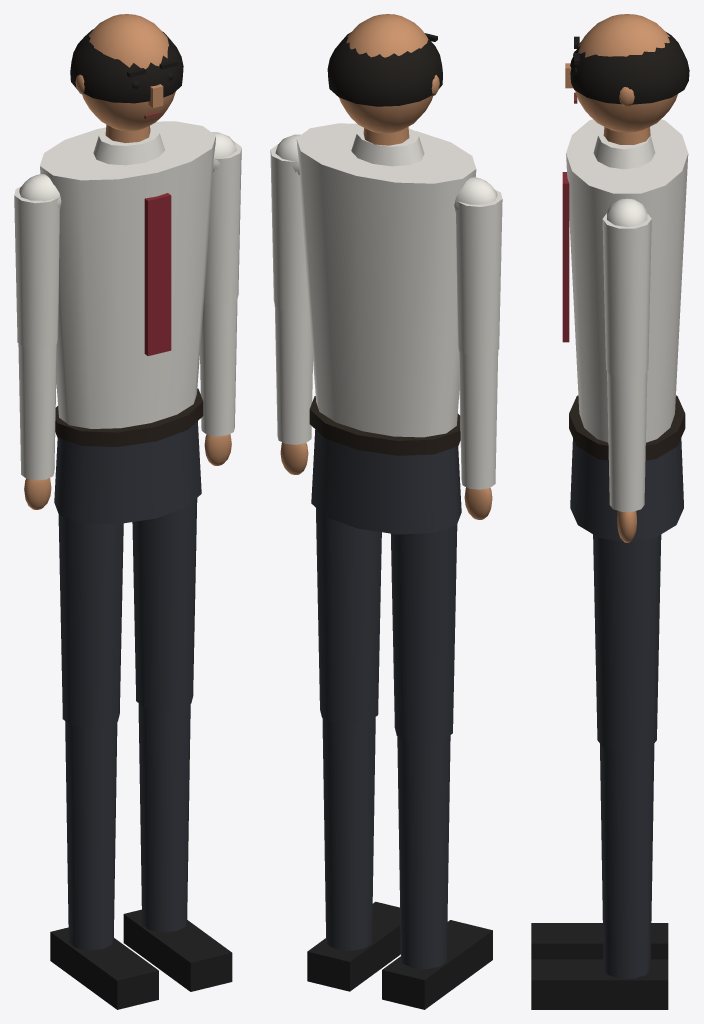
Rendered from person-1980s.glb.
3 renders of one model, left to right at view 1: azimuth 30°, elevation 25°; view 2: azimuth 150°, elevation 25°; view 3: azimuth 270°, elevation 25°, orthographic. The views are drawn at different scales.
Parts seen in each view (by area): view 1: spine, shinR, shinL, thighL, thighR, hips, neck, upperArmL, forearmL, forearmR, upperArmR, shoulderL; view 2: spine, shinL, shinR, thighL, thighR, hips, neck, upperArmL, forearmL, forearmR, upperArmR, shoulderL (+1 smaller); view 3: spine, shinR, thighR, neck, upperArmR, hips, forearmR, shinL, shoulderR.
Boxes of the visible parts, x1=… form: spine: x1=40, y1=121, x2=215, y2=446; shinR: x1=123, y1=703, x2=232, y2=991; shinL: x1=50, y1=721, x2=158, y2=1009; thighL: x1=58, y1=515, x2=123, y2=728; thighR: x1=132, y1=498, x2=197, y2=710; hips: x1=54, y1=421, x2=201, y2=524; neck: x1=70, y1=14, x2=183, y2=143; upperArmL: x1=14, y1=186, x2=59, y2=349; forearmL: x1=18, y1=343, x2=56, y2=509; forearmR: x1=200, y1=299, x2=237, y2=465; upperArmR: x1=203, y1=141, x2=241, y2=305; shoulderL: x1=19, y1=174, x2=61, y2=208; spine: x1=296, y1=123, x2=476, y2=455; shinL: x1=382, y1=735, x2=492, y2=1009; shinR: x1=307, y1=717, x2=400, y2=991; thighL: x1=391, y1=524, x2=457, y2=743; thighR: x1=316, y1=508, x2=381, y2=724; hips: x1=311, y1=429, x2=461, y2=534; neck: x1=327, y1=14, x2=442, y2=145; upperArmL: x1=456, y1=190, x2=502, y2=356; forearmL: x1=459, y1=350, x2=498, y2=519; forearmR: x1=274, y1=305, x2=312, y2=474; upperArmR: x1=270, y1=144, x2=309, y2=311; shoulderL: x1=454, y1=177, x2=497, y2=212; spine: x1=562, y1=119, x2=688, y2=460; shinR: x1=531, y1=744, x2=668, y2=1009; thighR: x1=593, y1=534, x2=661, y2=752; neck: x1=565, y1=14, x2=689, y2=144; upperArmR: x1=602, y1=213, x2=651, y2=378; hips: x1=570, y1=438, x2=683, y2=541; forearmR: x1=607, y1=371, x2=647, y2=542; shinL: x1=531, y1=923, x2=668, y2=959; shoulderR: x1=607, y1=198, x2=647, y2=226.
Bounding box in the file's own units: 0.4745 × 1.94 × 0.289.
